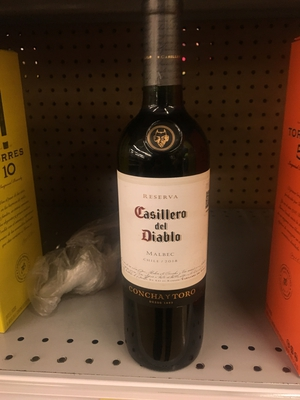casillero del diablo malbec: (109, 16, 235, 367)
